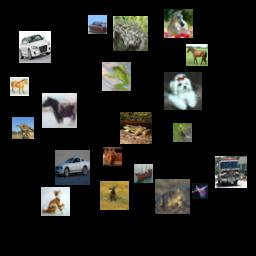airplane: (192, 183, 208, 199)
automobile: (55, 150, 90, 185), (19, 31, 51, 63)
bird: (12, 117, 34, 139), (173, 123, 192, 142)
cat: (41, 187, 70, 216), (103, 147, 122, 166)
deer: (100, 181, 129, 210)
dog: (164, 72, 202, 110)
frog: (155, 179, 190, 214), (113, 16, 148, 51), (120, 112, 152, 144), (102, 62, 131, 91)
ship: (134, 164, 153, 183), (88, 15, 107, 34)
truck: (215, 156, 247, 188)
